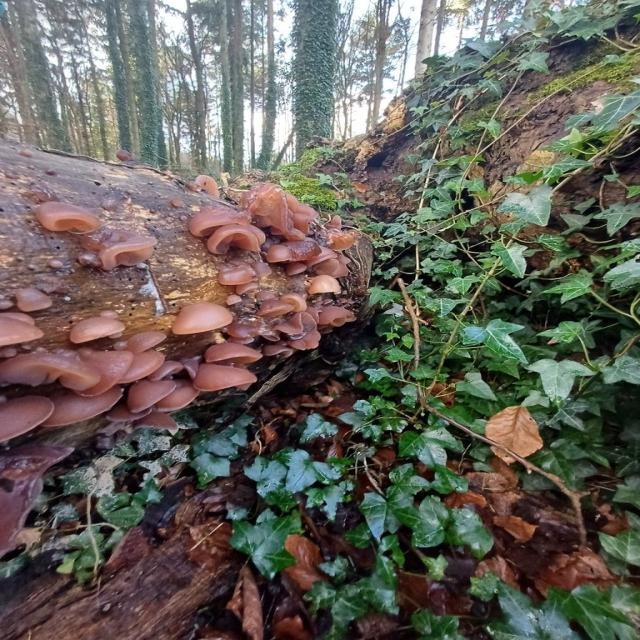Fase Muda: (92, 228, 160, 272), (35, 200, 102, 235), (70, 316, 128, 344), (0, 312, 46, 344), (217, 258, 259, 284), (256, 298, 296, 319), (15, 288, 51, 311), (148, 360, 184, 382), (282, 291, 308, 312), (265, 243, 290, 264), (284, 262, 307, 278), (234, 282, 262, 293), (254, 290, 276, 301)
Matang: (238, 183, 318, 240), (1, 350, 96, 392), (38, 383, 125, 428), (74, 348, 134, 397), (0, 393, 54, 441), (172, 301, 235, 336), (190, 363, 258, 392), (114, 348, 167, 385), (124, 377, 177, 413), (276, 312, 322, 352), (205, 225, 262, 257), (189, 210, 253, 238), (154, 378, 200, 414), (204, 342, 262, 366), (279, 237, 323, 264), (126, 330, 169, 354), (302, 246, 340, 272), (320, 305, 360, 328), (317, 255, 352, 278), (307, 274, 341, 297), (228, 322, 262, 343), (265, 344, 296, 359)
primordia: (78, 251, 104, 270), (100, 310, 121, 320), (0, 296, 14, 310), (227, 295, 242, 306), (107, 329, 122, 340), (48, 260, 64, 269), (170, 198, 185, 207), (113, 341, 126, 350), (179, 214, 189, 222)
